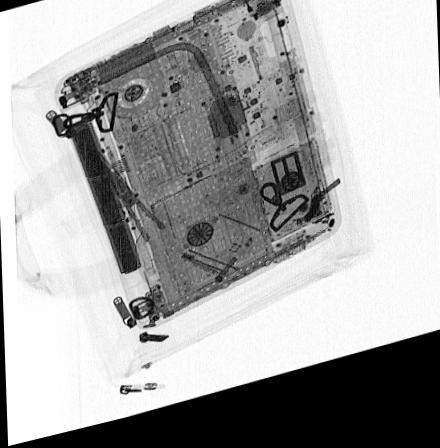Scissors: (82, 144, 167, 257)
